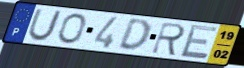4: (92, 15, 120, 50)
D: (116, 18, 152, 53)
E: (178, 23, 219, 60)
O: (56, 12, 88, 45)
R: (150, 21, 188, 58)
U: (26, 8, 64, 43)
